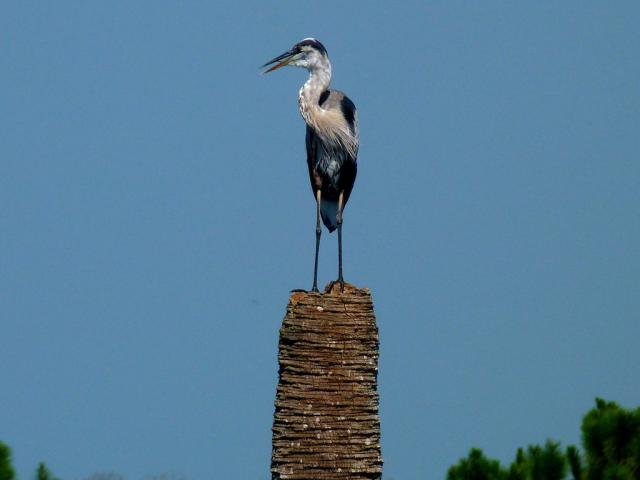Bird: (254, 36, 360, 295)
